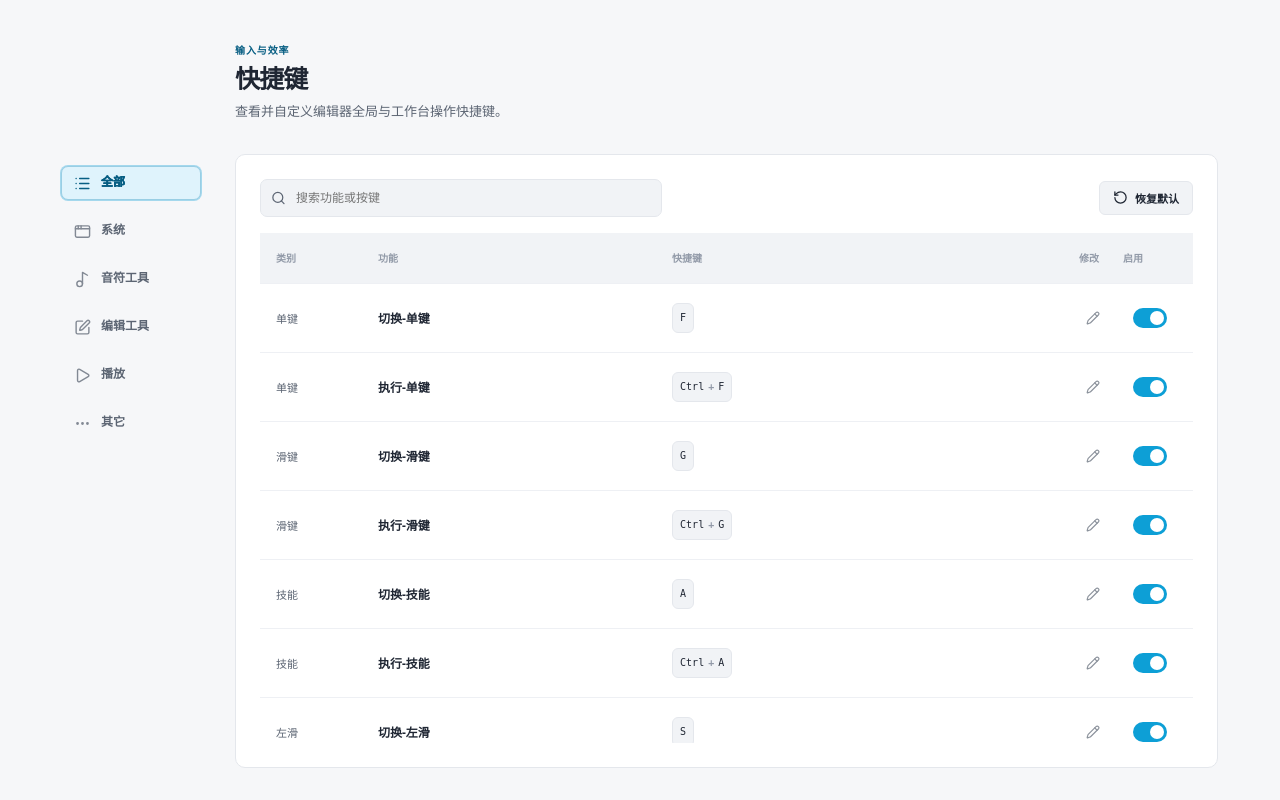
issue 177/178 · 切页行、改键冲突与重新启用 › 冲突时弹窗不关、就地报错、保留草稿；换成空闲键后正常写入并关窗
Click the button "系统".
click(131, 230)  # box [61,214,201,248]
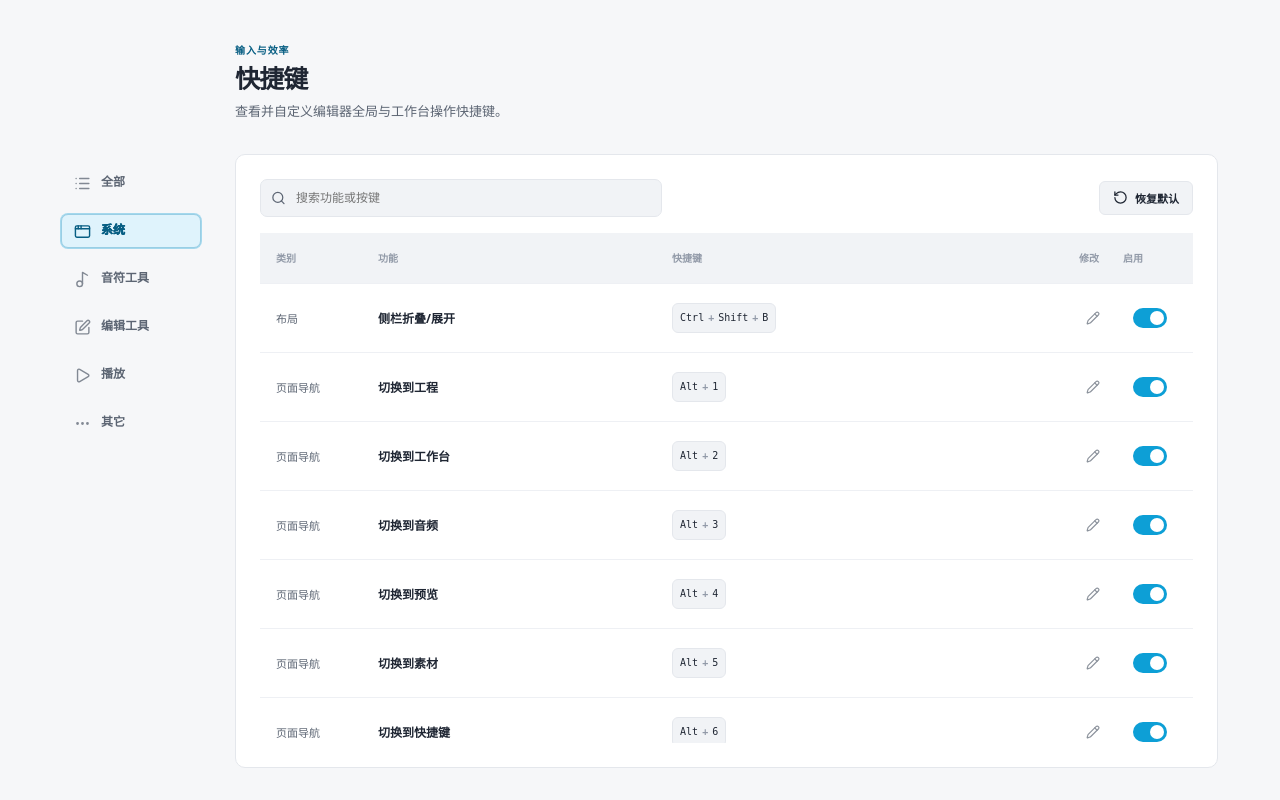
Click the button named "修改切换到工程的快捷键".
click(1092, 386)  # box [1079,374,1105,400]
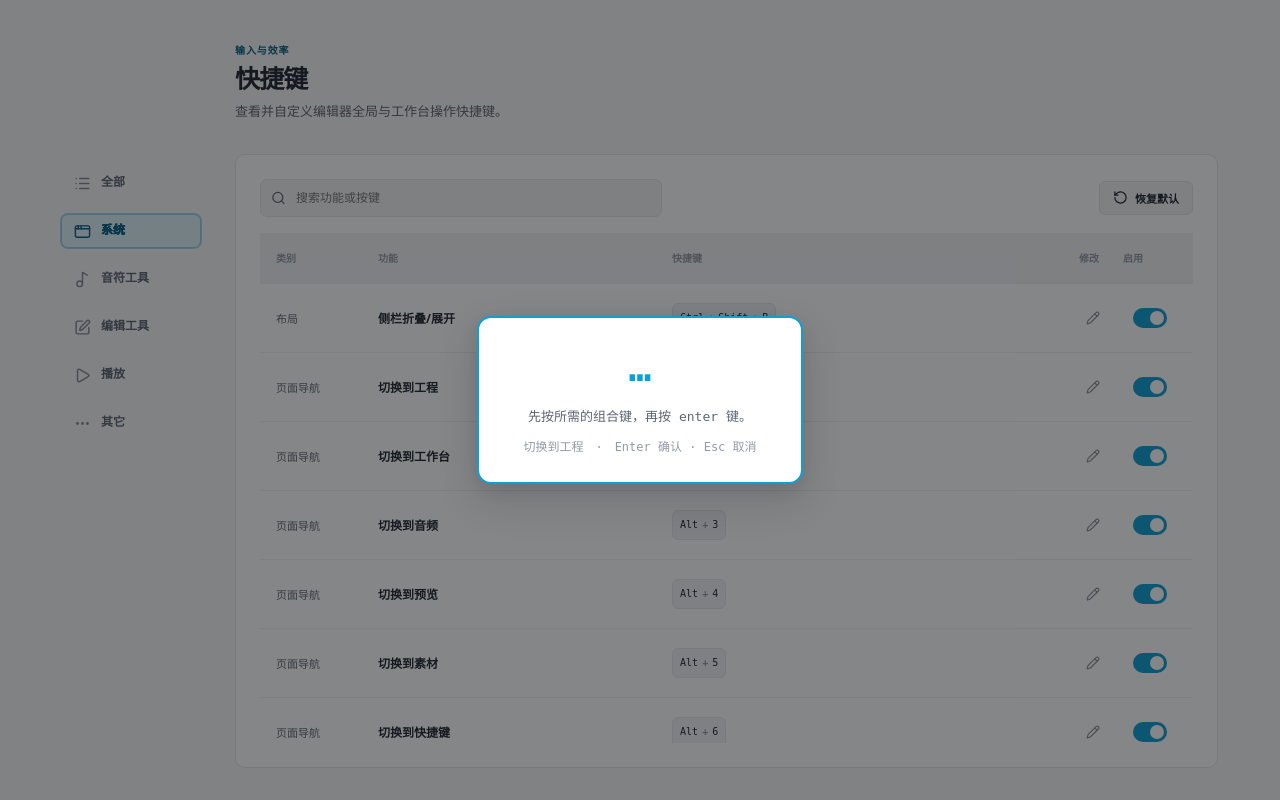
Expected: the element with class "shortcut-recorder" is shown
Note: 撞「切换-单键」的 F
Press f
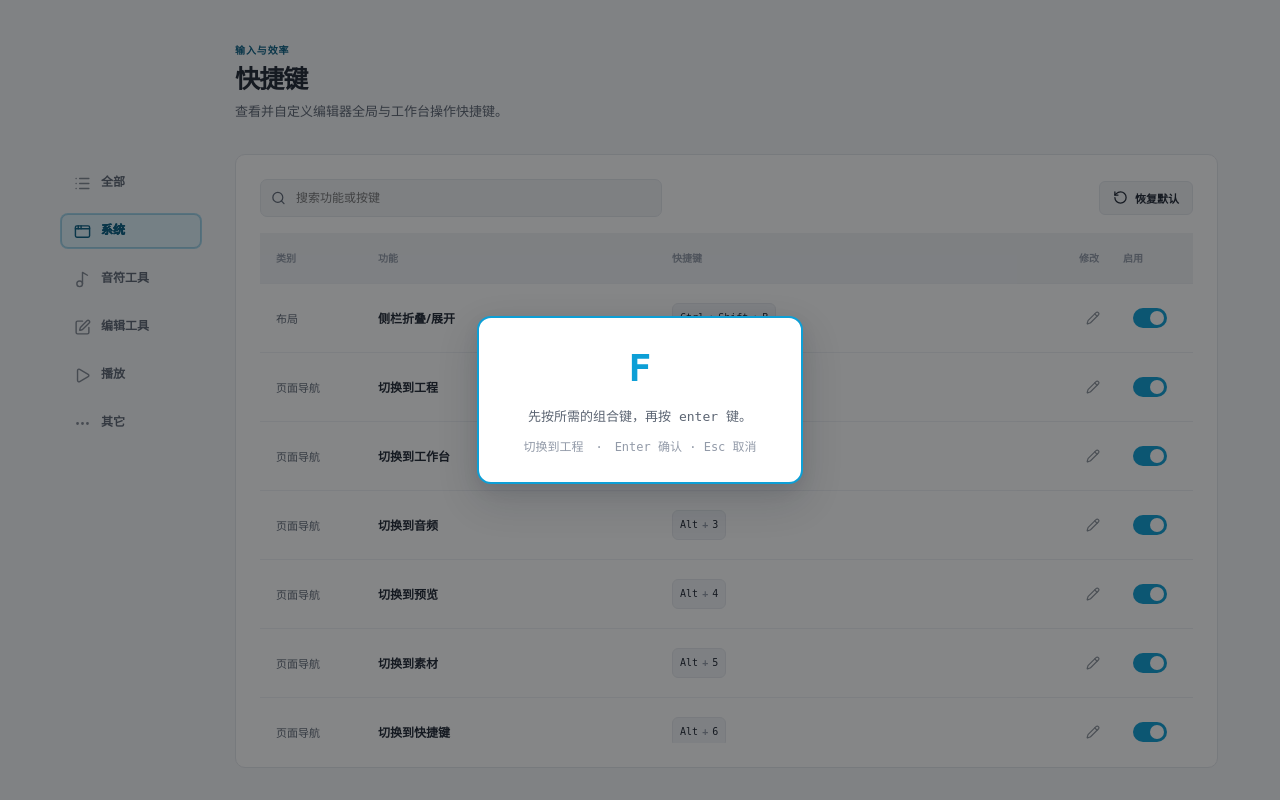
Press Enter
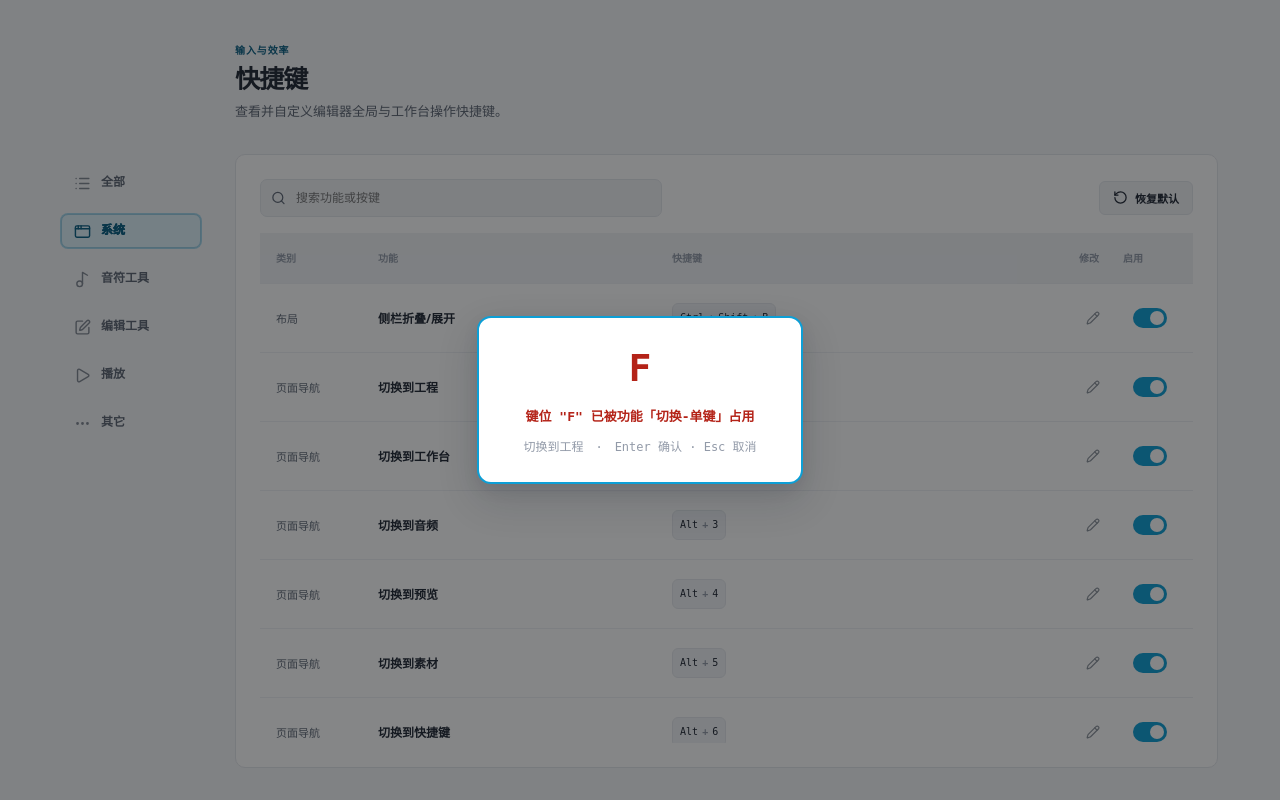
Expected: the element with class "shortcut-recorder" is shown
Expected: the text with class "shortcut-recorder__keys" reads "F", [628,346,651,390]
Expected: the message shows "已被功能", [526,409,754,424]
Note: 空闲键：写入成功 → 关窗，行上显示新键（带 code，走 macOS ⌥+数字 的真实分支）
Press ¡
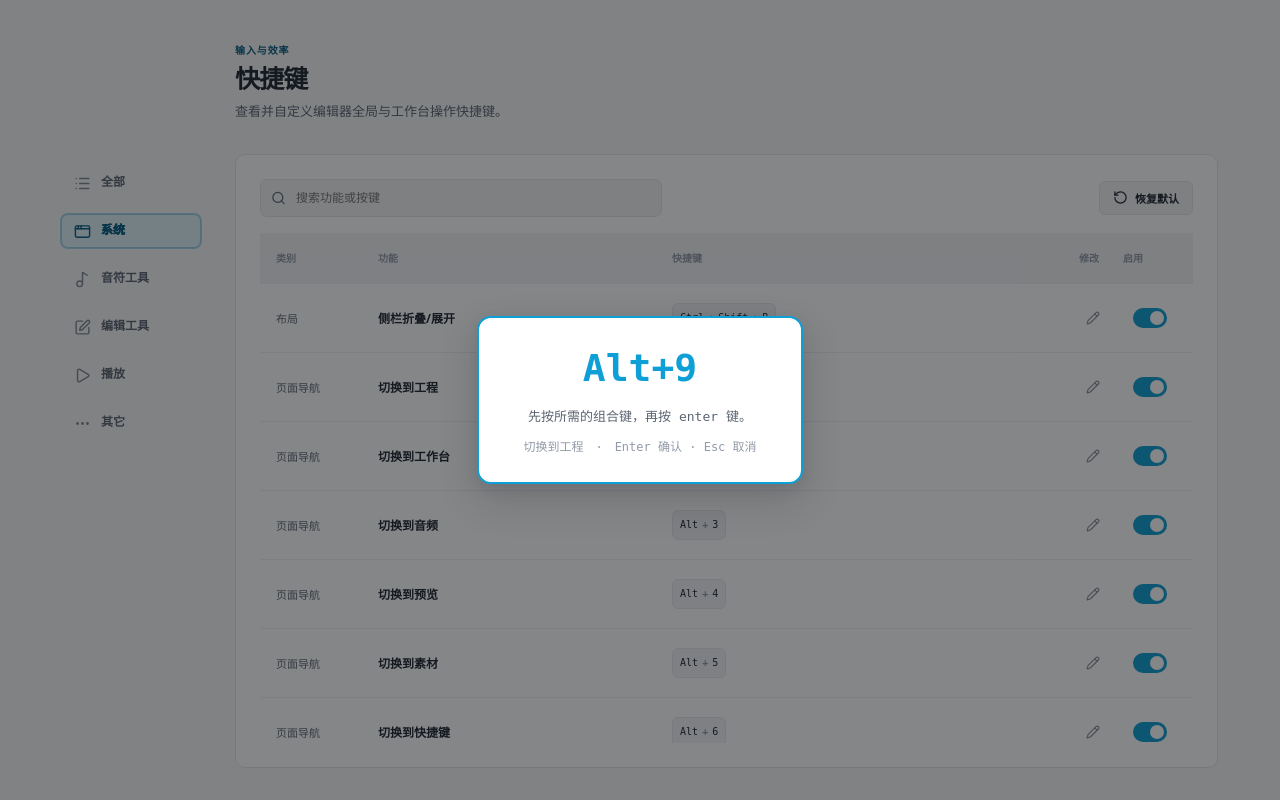
Press Enter
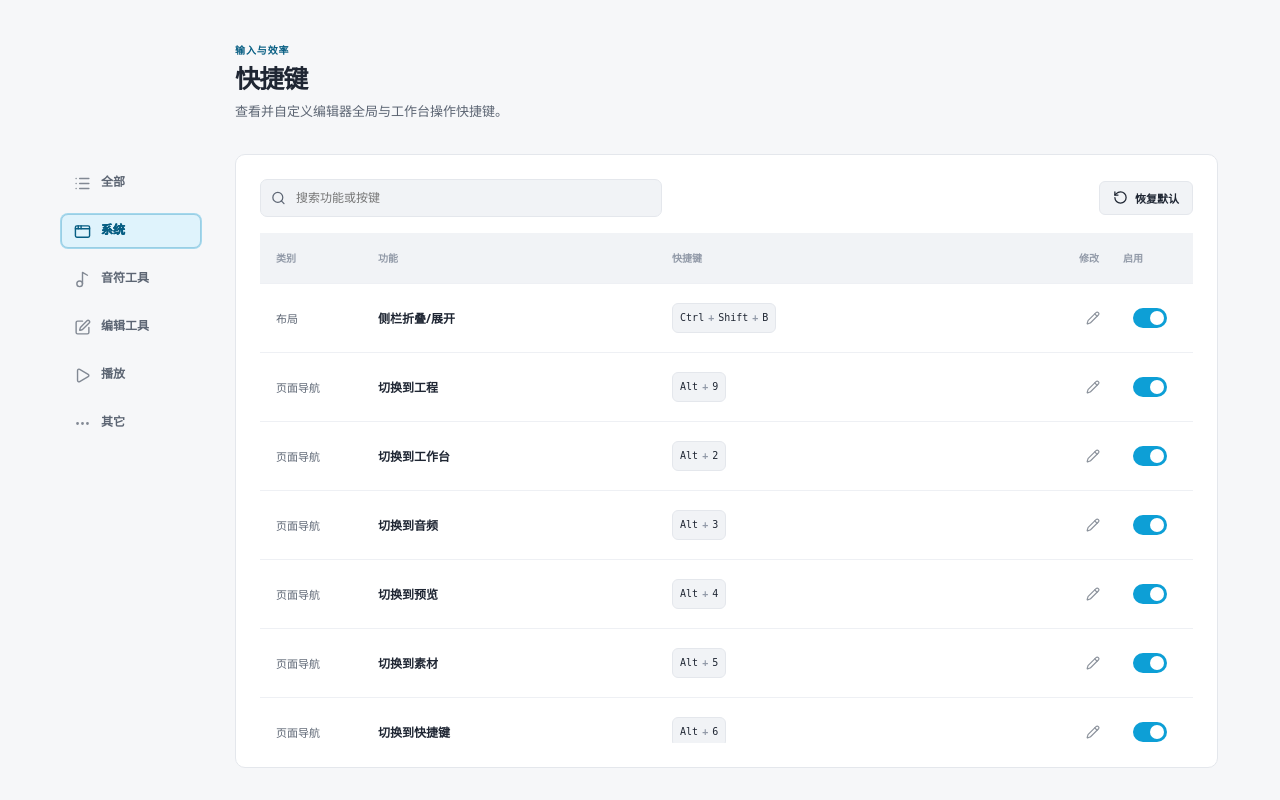
Expected: the element with class "shortcut-recorder" is gone
